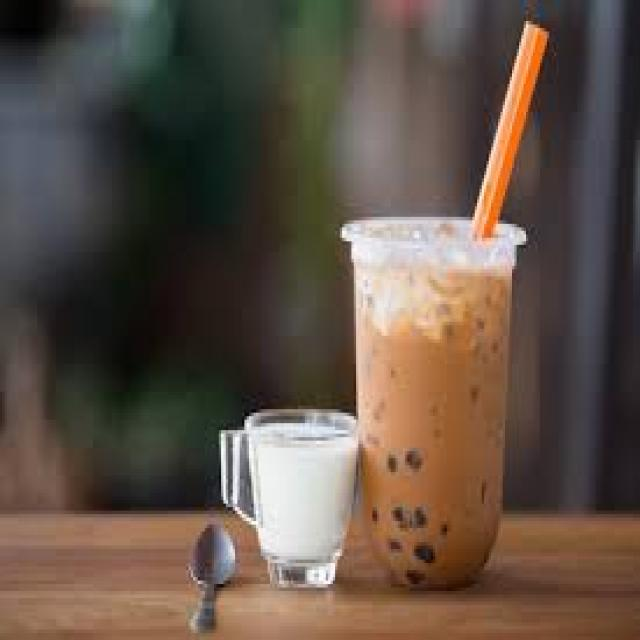bottle: (341, 218, 525, 585), (247, 409, 356, 587)
